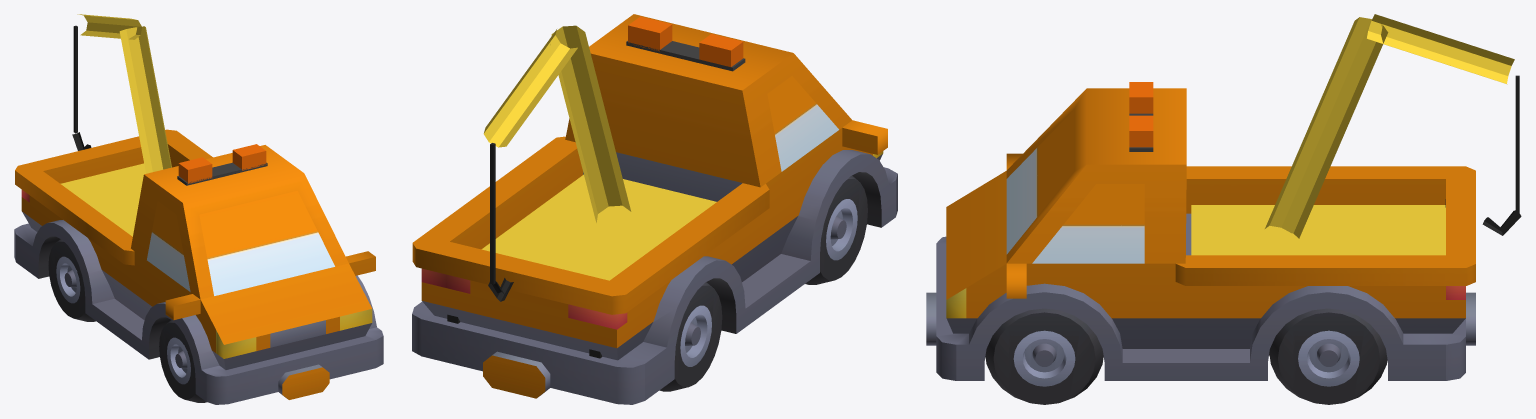
Rendered from bargningsbil.glb.
3 renders of one model, left to right at view 1: azimuth 30°, elevation 25°; view 2: azimuth 150°, elevation 25°; view 3: azimuth 270°, elevation 25°, orthographic. The views are drawn at different scales.
Parts seen in each view (by area): view 1: body, till-bargningsbil, wheel-back-right, wheel-front-right; view 2: body, till-bargningsbil, wheel-front-right, wheel-back-right; view 3: body, till-bargningsbil, wheel-front-left, wheel-back-left.
Boxes of the visible parts, left/top/right/bottom form: body: left=14, top=129, right=383, bottom=404; till-bargningsbil: left=60, top=14, right=267, bottom=236; wheel-back-right: left=48, top=239, right=95, bottom=321; wheel-front-right: left=159, top=320, right=206, bottom=402; body: left=412, top=14, right=897, bottom=404; till-bargningsbil: left=447, top=16, right=745, bottom=358; wheel-front-right: left=805, top=175, right=867, bottom=284; wheel-back-right: left=659, top=282, right=722, bottom=391; body: left=926, top=88, right=1475, bottom=380; till-bargningsbil: left=1129, top=14, right=1521, bottom=255; wheel-front-left: left=985, top=308, right=1103, bottom=404; wheel-back-left: left=1269, top=308, right=1387, bottom=404.
Bounding box in the file's own units: 1.5 × 1.92 × 2.97.
Materials: 5 (1 with a texture image).
